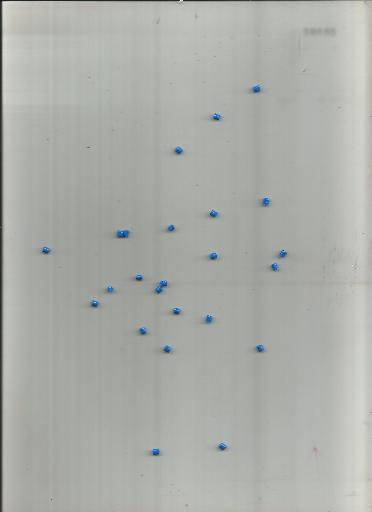Pellet: (139, 325, 148, 336), (209, 209, 219, 218), (252, 84, 261, 94), (153, 286, 164, 294), (163, 344, 172, 353), (204, 314, 213, 323), (172, 306, 181, 315), (174, 146, 183, 155), (152, 448, 162, 456), (218, 442, 227, 450), (256, 344, 264, 353), (271, 262, 279, 271), (262, 197, 270, 206), (213, 113, 221, 122), (91, 299, 99, 307), (106, 285, 114, 293), (42, 245, 50, 253), (159, 280, 168, 287), (279, 250, 288, 257), (134, 274, 144, 280), (209, 253, 217, 260), (117, 229, 124, 237), (168, 224, 175, 232), (124, 229, 129, 238)
